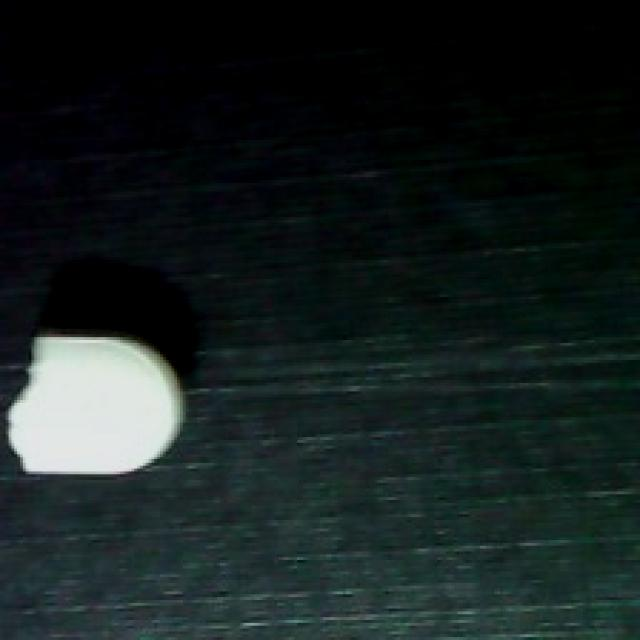defected: (0, 320, 186, 497)
